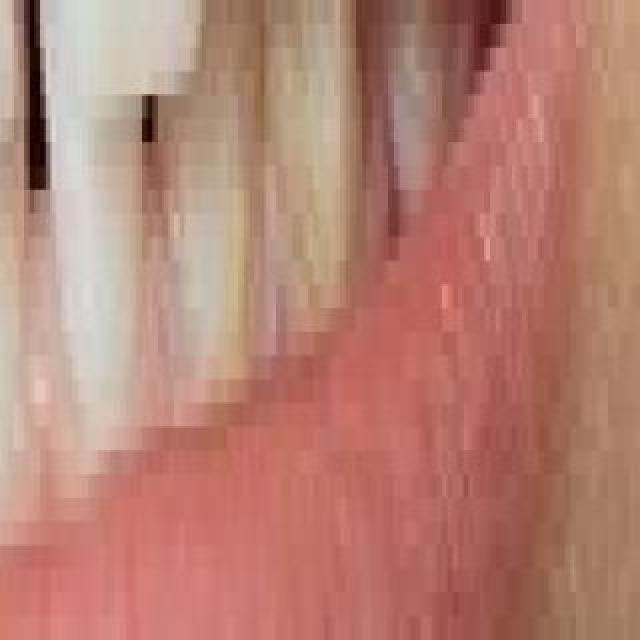spacing: (0, 0, 108, 244)
stains: (265, 155, 405, 351), (114, 0, 224, 146), (240, 0, 312, 132), (0, 0, 16, 218)
